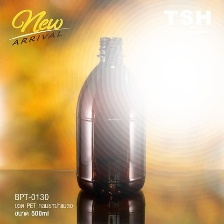insecticide: (71, 33, 149, 200)
